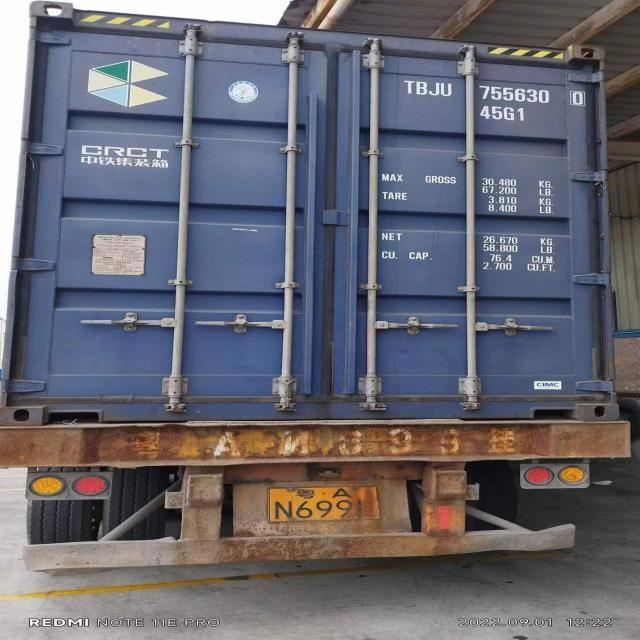ISO: (481, 104, 526, 123)
container_number: (408, 76, 588, 108), (12, 614, 212, 632)
